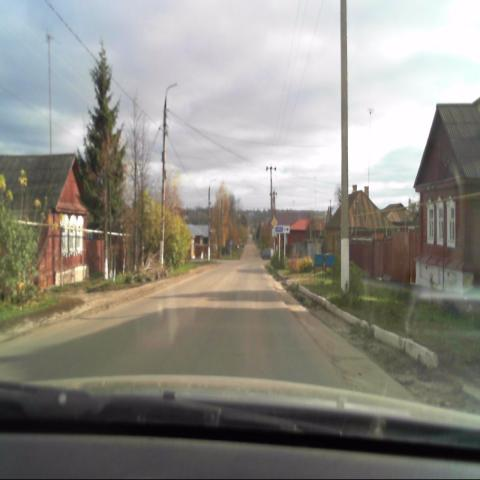2_1: (271, 216, 277, 228)
